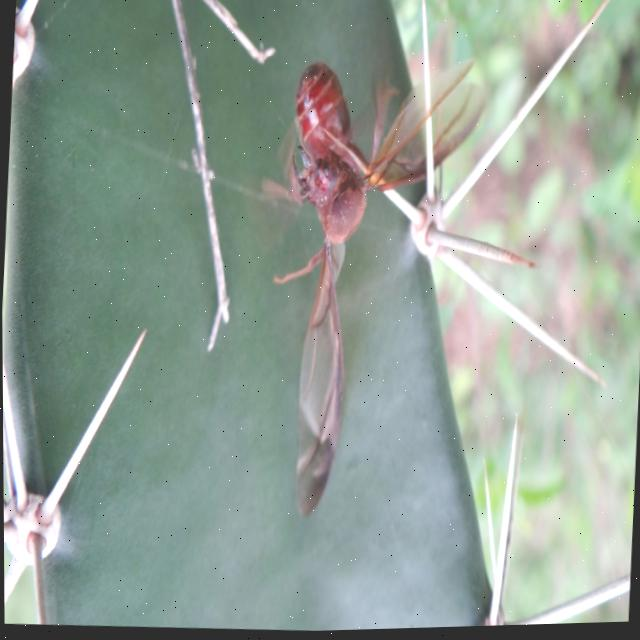Alive-Female-Alate: (224, 46, 497, 531)
